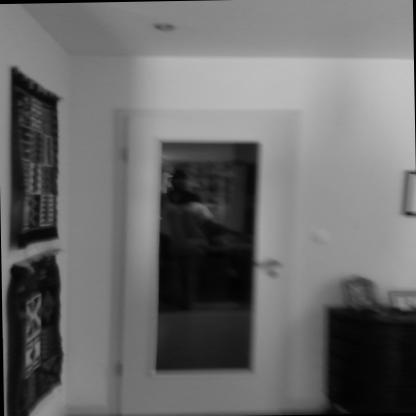closed: (104, 114, 312, 402)
